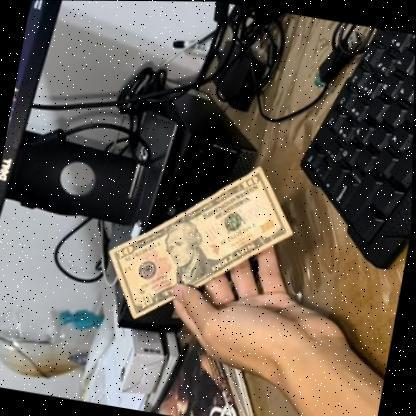ten-front: (96, 145, 304, 341)
